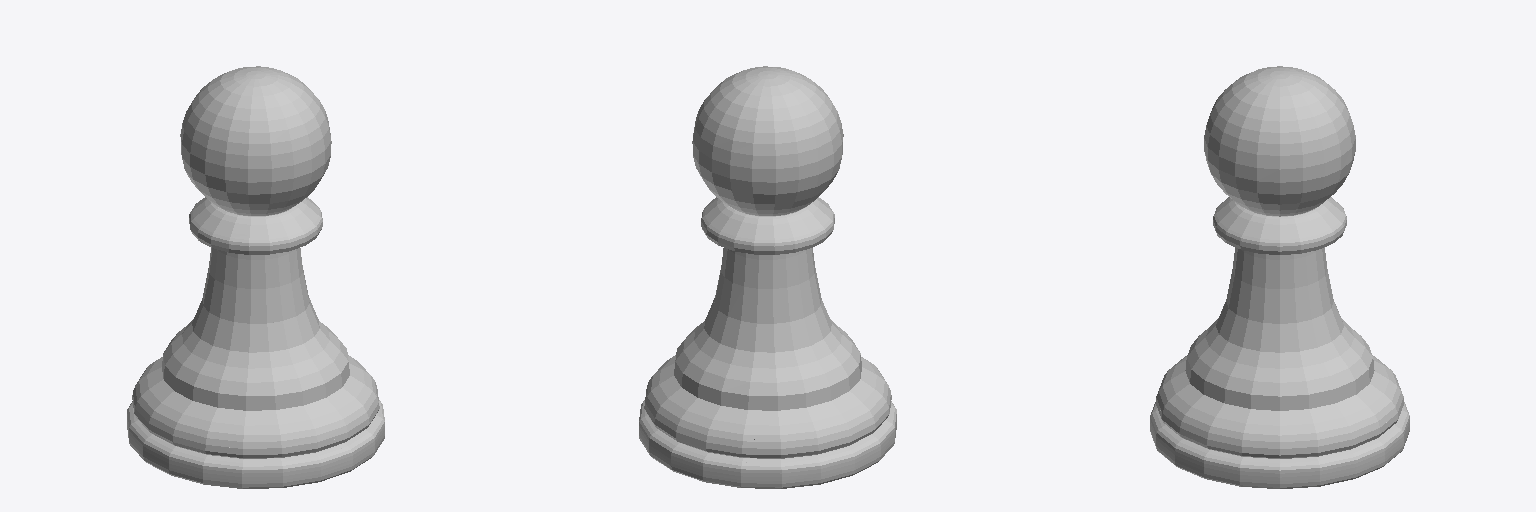
The model's file is pawn_b_8.obj.
3 views of the same model, side by side, from view 1: azimuth 30°, elevation 25°; view 2: azimuth 150°, elevation 25°; view 3: azimuth 270°, elevation 25° (orthographic).
Parts seen in each view (by area): view 1: pawn_b_8; view 2: pawn_b_8; view 3: pawn_b_8.
Boxes of the visible parts, box(x1,y1,x2,y2) form: pawn_b_8: box(127, 66, 384, 488); pawn_b_8: box(639, 66, 896, 488); pawn_b_8: box(1150, 66, 1409, 488).
Bounding box in the file's own units: 2.73 × 4.2 × 2.73.